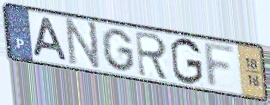A: (31, 15, 70, 63)
F: (203, 40, 238, 91)
G: (169, 36, 205, 86), (99, 27, 136, 74)
N: (65, 16, 102, 73)
R: (133, 29, 171, 83)
